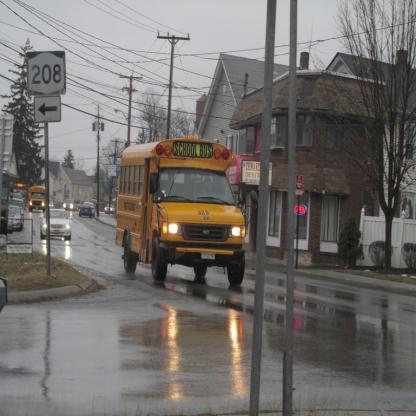Bus: (115, 136, 258, 288), (30, 185, 47, 214)
